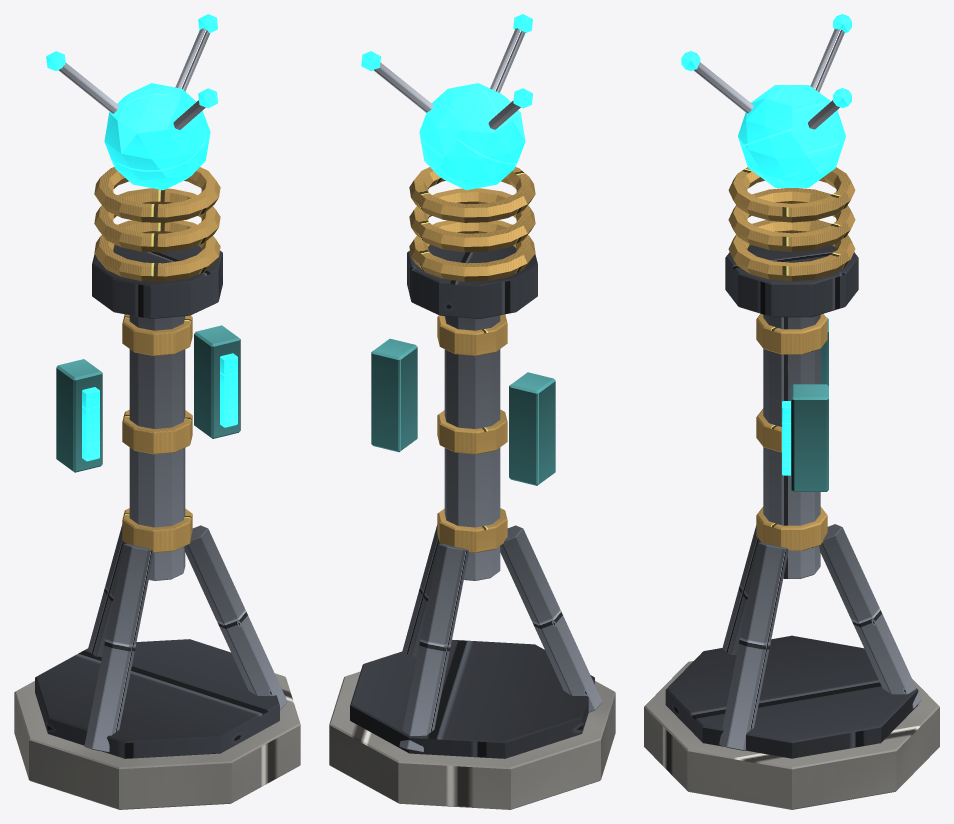
Rendered from BLD_TeslaTower_A_v1.fbx.
The picture shows the model from 3 angles, left to right: view 1: azimuth 30°, elevation 25°; view 2: azimuth 150°, elevation 25°; view 3: azimuth 270°, elevation 25°; orthographic projection.
Parts seen in each view (by area): view 1: GEO_TeslaTower_A; view 2: GEO_TeslaTower_A; view 3: GEO_TeslaTower_A.
Part boxes in pixels (x1,y1,x2,y2): GEO_TeslaTower_A: (14, 14, 300, 809); GEO_TeslaTower_A: (329, 14, 615, 809); GEO_TeslaTower_A: (644, 14, 939, 809).
Bounding box in the file's own units: 164 × 426 × 164.
